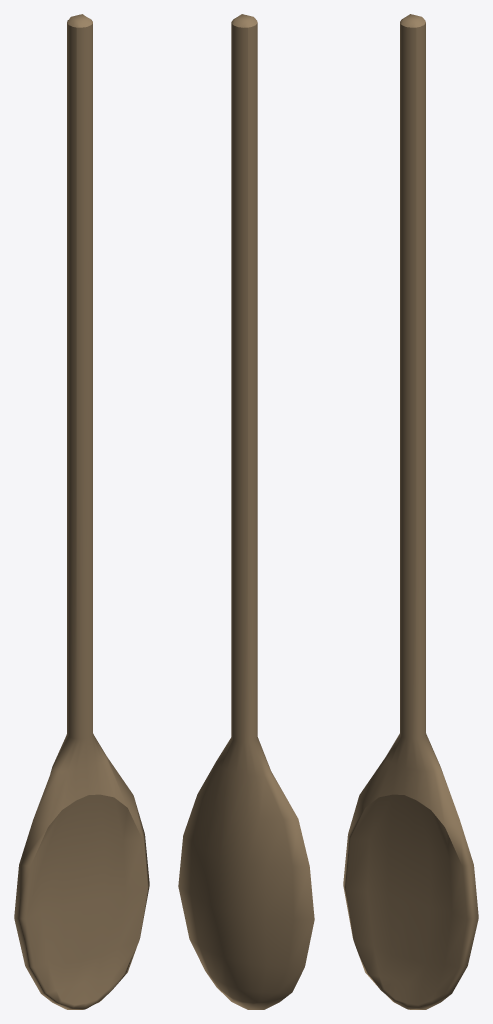
Rendered from Pollepel placeholder.fbx.
3 renders of one model, left to right at view 1: azimuth 30°, elevation 25°; view 2: azimuth 150°, elevation 25°; view 3: azimuth 330°, elevation 25°, orthographic.
Parts seen in each view (by area): view 1: pollepel; view 2: pollepel; view 3: pollepel.
Part boxes in pixels (x1,y1,x2,y2): pollepel: (14,14,149,1009); pollepel: (178,14,314,1009); pollepel: (343,14,478,1009).
Size of the model in its own units: 4.32 by 30.12 by 1.15.
